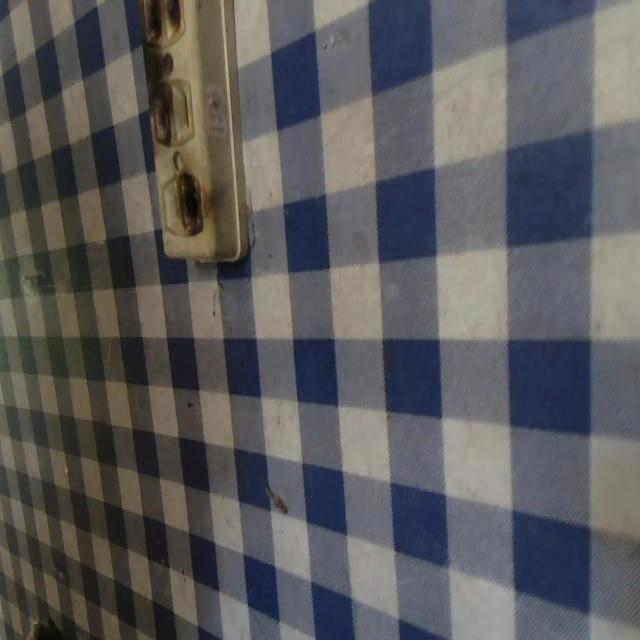-: (145, 78, 176, 150), (176, 168, 205, 236), (139, 0, 185, 41)
